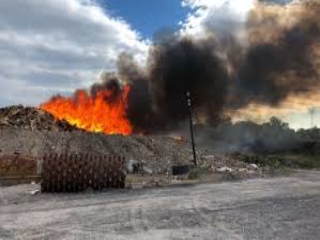fire: (39, 89, 133, 135)
smoke: (117, 23, 318, 129)
